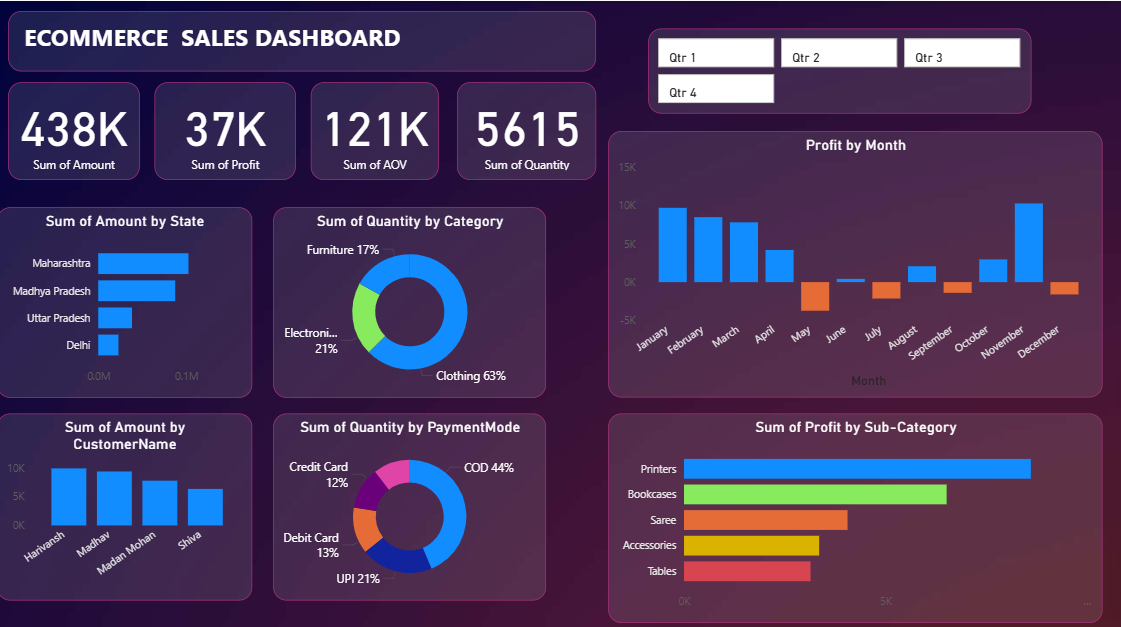

The page's visual inventory and layout, read from the dashboard file:
{"tool":"powerbi","page":{"name":"Page 1","canvas":[1280,720],"ordinal":0},"visuals":[{"type":"textbox","box":[13,11.8,669.1,68.7],"z":0},{"type":"columnChart","title":"Profit by Month","fields":{"Category":["Orders.Order Date.Variation.Date Hierarchy.Month"],"Y":["Details.Profit"]},"box":[695.2,148,562.5,303.2],"z":1000},{"type":"barChart","fields":{"Category":["Details.Sub-Category"],"Y":["Details.Profit"]},"box":[695.2,469,562.5,238],"z":2000},{"type":"donutChart","fields":{"Y":["Details.Quantity"],"Category":["Details.Category"]},"box":[313.8,234.5,310.3,216.7],"z":3000},{"type":"donutChart","fields":{"Y":["Details.Quantity"],"Category":["Details.PaymentMode"]},"box":[313.8,469,310.3,213.2],"z":4000},{"type":"card","fields":{"Values":["Details.Amount"]},"box":[13,92.4,149.2,111.3],"z":5000},{"type":"card","fields":{"Values":["Details.Quantity"]},"box":[523.5,92.4,158.7,111.3],"z":6000},{"type":"card","fields":{"Values":["Details.Profit"]},"box":[178.8,92.4,161.1,111.3],"z":7000},{"type":"card","fields":{"Values":["Details.AOV"]},"box":[357.7,92.4,145.7,111.3],"z":8000},{"type":"barChart","fields":{"Category":["Orders.State"],"Y":["Details.Amount"]},"box":[0,234.5,290.2,216.7],"z":9000},{"type":"columnChart","fields":{"Category":["Orders.CustomerName"],"Y":["Details.Amount"]},"box":[0,469,290.2,213.2],"z":10000},{"type":"advancedSlicerVisual","fields":{"Values":["Orders.Order Date.Variation.Date Hierarchy.Quarter"]},"box":[741.4,32,435.8,97.1],"z":11000}]}

Visuals, with their boxes in screenshot pixels (x1, y1, x2, y2), scaled from the page's 1280x720 canvas onto the 1121x627 screenshot:
textbox: (left=11, top=10, right=597, bottom=70)
"Profit by Month" columnChart: (left=609, top=129, right=1101, bottom=393)
barChart - Details.Sub-Category x Details.Profit: (left=609, top=408, right=1101, bottom=616)
donutChart - Details.Quantity x Details.Category: (left=275, top=204, right=547, bottom=393)
donutChart - Details.Quantity x Details.PaymentMode: (left=275, top=408, right=547, bottom=594)
card - Details.Amount: (left=11, top=80, right=142, bottom=177)
card - Details.Quantity: (left=458, top=80, right=597, bottom=177)
card - Details.Profit: (left=157, top=80, right=298, bottom=177)
card - Details.AOV: (left=313, top=80, right=441, bottom=177)
barChart - Orders.State x Details.Amount: (left=0, top=204, right=254, bottom=393)
columnChart - Orders.CustomerName x Details.Amount: (left=0, top=408, right=254, bottom=594)
advancedSlicerVisual - Orders.Order Date.Variation.Date Hierarchy.Quarter: (left=649, top=28, right=1031, bottom=112)
